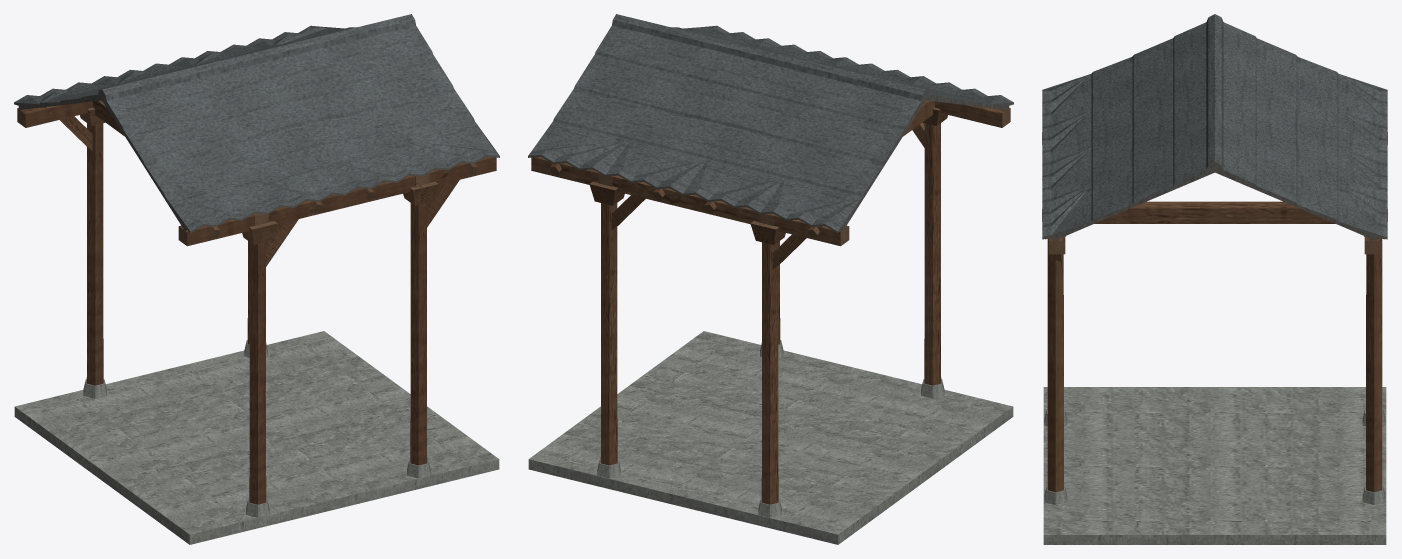
Rendered from GalleryStraight_LOD1.fbx.
3 views of the same model, side by side, from view 1: azimuth 30°, elevation 25°; view 2: azimuth 150°, elevation 25°; view 3: azimuth 270°, elevation 25° (orthographic). The views are drawn at different scales.
Visible parts, largest first — view 1: GalleryStraight.001; view 2: GalleryStraight.001; view 3: GalleryStraight.001.
Boxes of the visible parts, x1,y1,x2,y2 form: GalleryStraight.001: (14,14,499,544); GalleryStraight.001: (528,14,1013,544); GalleryStraight.001: (1042,14,1387,544).
Bounding box in the file's own units: 3 × 3.62 × 2.97.
Materials: 1 (1 with a texture image).
